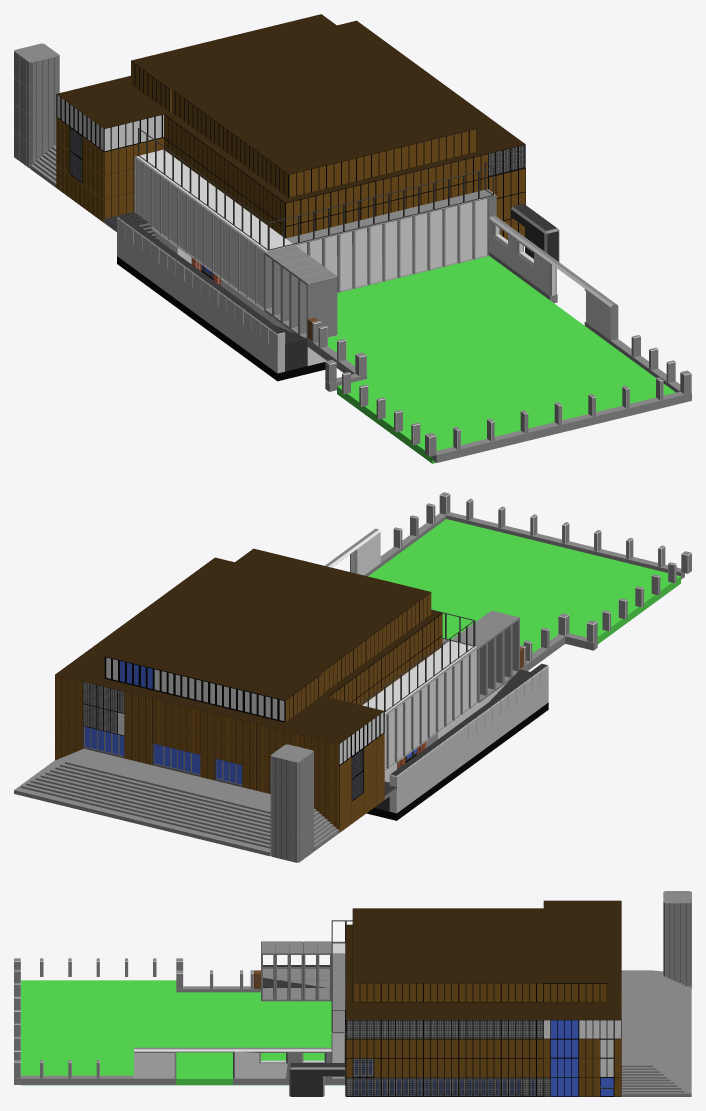
The model's file is ClubStudio.fbx.
3 views of the same model, one above another, from view 1: azimuth 30°, elevation 25°; view 2: azimuth 150°, elevation 25°; view 3: azimuth 270°, elevation 25° (orthographic). The views are drawn at different scales.
Visible parts, largest first — view 1: Cube.768, Cube.769, Cube.576, Cube.413, Cube.642, Cube.453, Cube.429, Cube.644, Cube.467, Cube.464, Cube.668, Cube.493 (+12 smaller); view 2: Cube.413, Cube.769, Cube.768, Cube.408, Cube.453, Cube.576, Cube.411, Cube.410, Cube.429, Cube.467, Cube.464, Cube.668 (+9 smaller); view 3: Cube.768, Cube.769, Cube.576, Cube.413, Cube.408, Cube.644, Cube.429, Cube.410, Cube.411, Cube.412, Cube.636, Cube.646 (+10 smaller).
Boxes of the visible parts, box(x1,y1,x2,y2) form: Cube.768: box(328, 256, 675, 463); Cube.769: box(171, 43, 476, 197); Cube.576: box(164, 55, 525, 239); Cube.413: box(56, 14, 403, 152); Cube.642: box(286, 191, 489, 292); Cube.453: box(134, 149, 293, 310); Cube.429: box(14, 43, 59, 168); Cube.644: box(489, 215, 618, 340); Cube.467: box(117, 233, 284, 373); Cube.464: box(117, 215, 285, 349); Cube.668: box(432, 391, 684, 462); Cube.493: box(299, 270, 337, 338); Cube.413: box(55, 629, 384, 766); Cube.769: box(143, 548, 431, 693); Cube.768: box(368, 519, 680, 653); Cube.408: box(14, 748, 339, 856); Cube.453: box(362, 641, 478, 771); Cube.576: box(100, 557, 442, 705); Cube.411: box(55, 697, 384, 788); Cube.410: box(55, 719, 384, 810); Cube.429: box(270, 744, 313, 862); Cube.467: box(389, 680, 548, 813); Cube.464: box(389, 663, 548, 790); Cube.668: box(446, 512, 684, 579); Cube.768: box(21, 980, 344, 1085); Cube.769: box(352, 908, 543, 1002); Cube.576: box(345, 924, 543, 1096); Cube.413: box(543, 900, 621, 1039); Cube.408: box(621, 970, 691, 1096); Cube.644: box(134, 1047, 331, 1078); Cube.429: box(663, 891, 691, 988); Cube.410: box(543, 1058, 621, 1077); Cube.411: box(543, 1039, 621, 1058); Cube.412: box(543, 1077, 621, 1096); Cube.636: box(289, 1063, 345, 1096); Cube.646: box(14, 1075, 176, 1084).
Bounding box in the file's own units: 8079 × 3800 × 19205.
